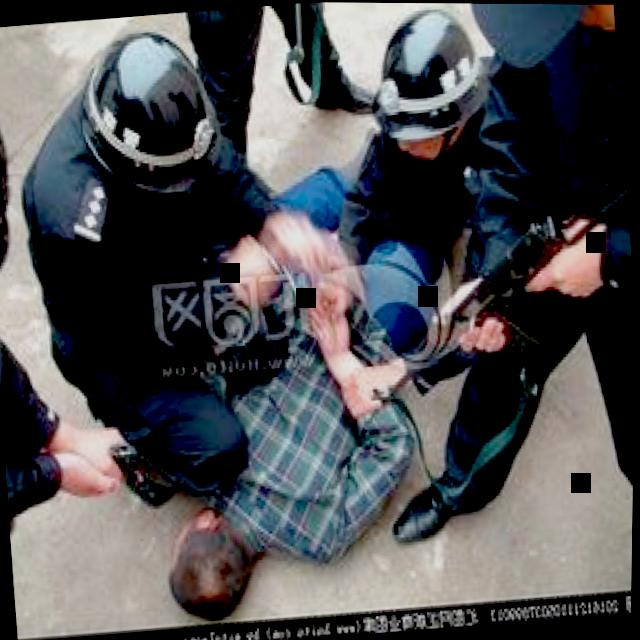Fall-Detected: (153, 102, 429, 601)
